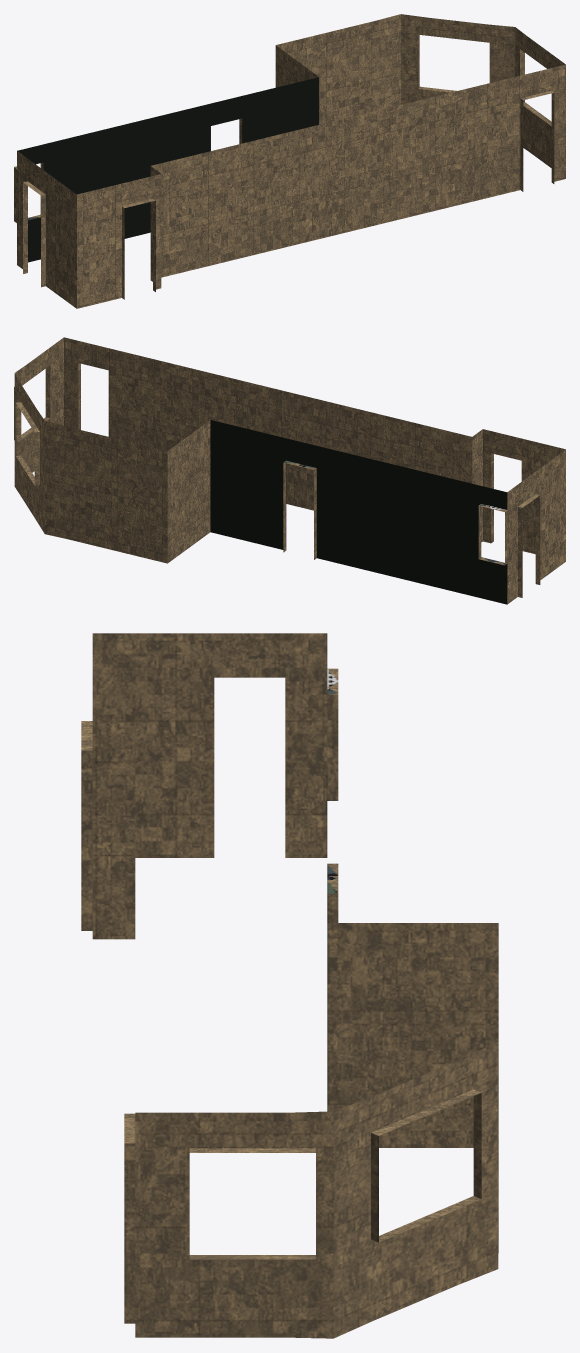
The model's file is living-room_0_0.wall.glb.
3 renders of one model, top to bottom at view 1: azimuth 30°, elevation 25°; view 2: azimuth 150°, elevation 25°; view 3: azimuth 270°, elevation 25°, orthographic. The views are drawn at different scales.
Parts seen in each view (by area): view 1: living-room_0/0.wall.001; view 2: living-room_0/0.wall.001; view 3: living-room_0/0.wall.001.
Part boxes in pixels (x1,y1,x2,y2): living-room_0/0.wall.001: (14, 14, 565, 308); living-room_0/0.wall.001: (14, 337, 565, 604); living-room_0/0.wall.001: (81, 633, 498, 1338).
Bounding box in the file's own units: 13.5 × 2.93 × 4.87.
Materials: 1 (1 with a texture image).
